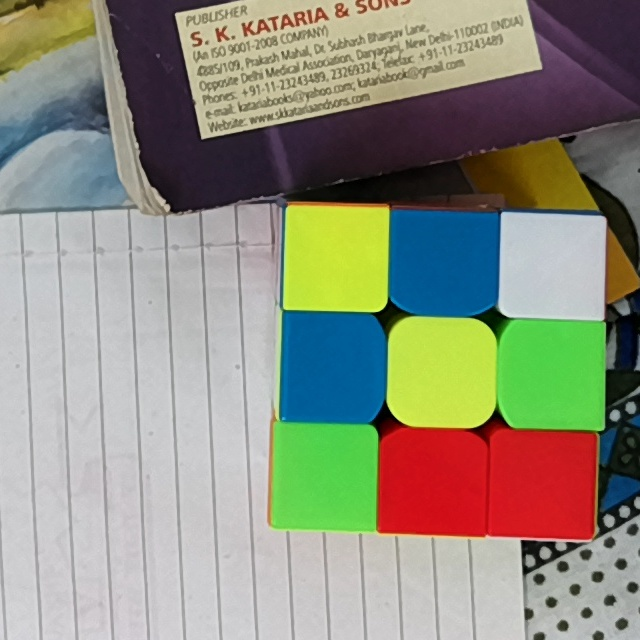tile: (278, 427, 374, 523), (288, 209, 382, 303), (497, 438, 589, 532), (387, 437, 482, 528), (509, 219, 600, 313), (286, 318, 377, 412), (510, 330, 600, 422), (398, 217, 491, 305), (397, 328, 489, 414)
